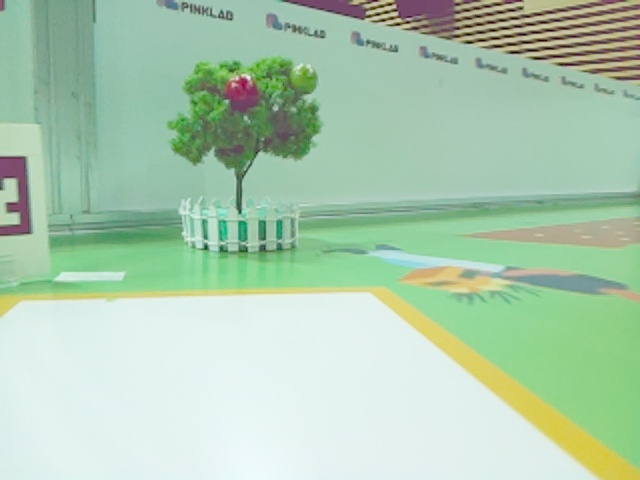apple: (222, 73, 263, 114)
